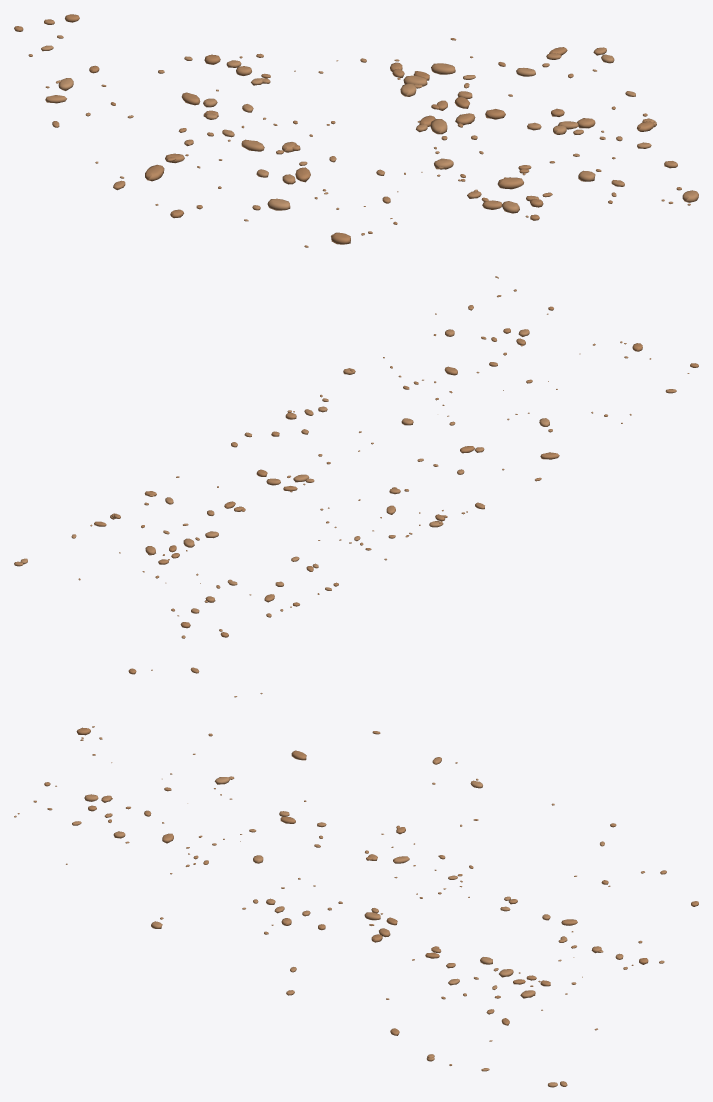
File: terrain-096.glb
3 renders of one model, top to bottom at view 1: azimuth 30°, elevation 25°; view 2: azimuth 150°, elevation 25°; view 3: azimuth 270°, elevation 25°, orthographic. The views are drawn at different scales.
Parts seen in each view (by area): view 1: terrain-096; view 2: terrain-096; view 3: terrain-096.
Boxes of the visible parts, x1=… form: terrain-096: x1=14, y1=14, x2=698, y2=247; terrain-096: x1=14, y1=276, x2=698, y2=638; terrain-096: x1=14, y1=667, x2=698, y2=1087.
Size of the model in its own units: 56.05 by 18.41 by 65.16.
